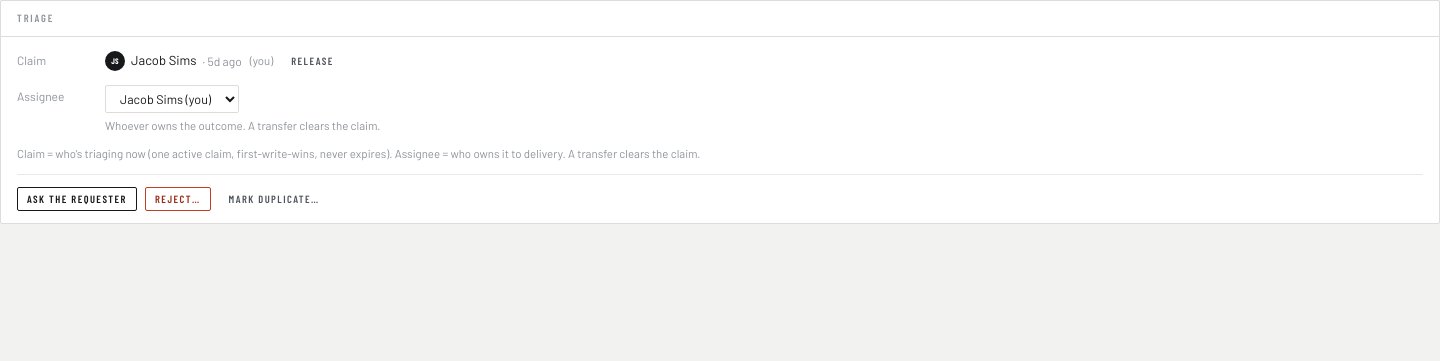
RequestTriageRail: the three triage acts, each refusing to act before it has what it needs › asks the requester through the page, and disables Send until a question is typed
Click the button "Ask the requester" at (77, 199), box [17,187,137,211]
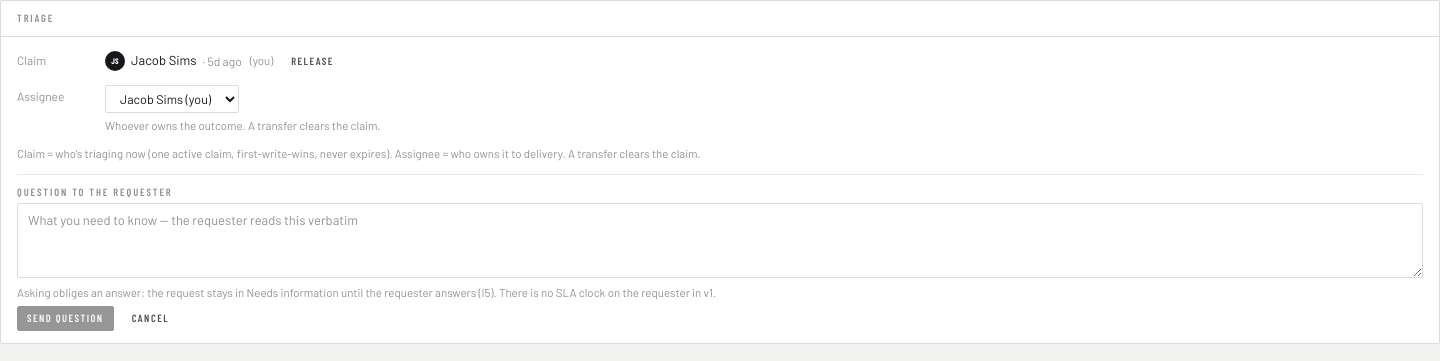
Result: the button "Send question" is disabled at [17,306,114,331]
Type "Which group is the default?" into the text box labelled "Question to the requester" at (720, 241), box [17,203,1423,278]
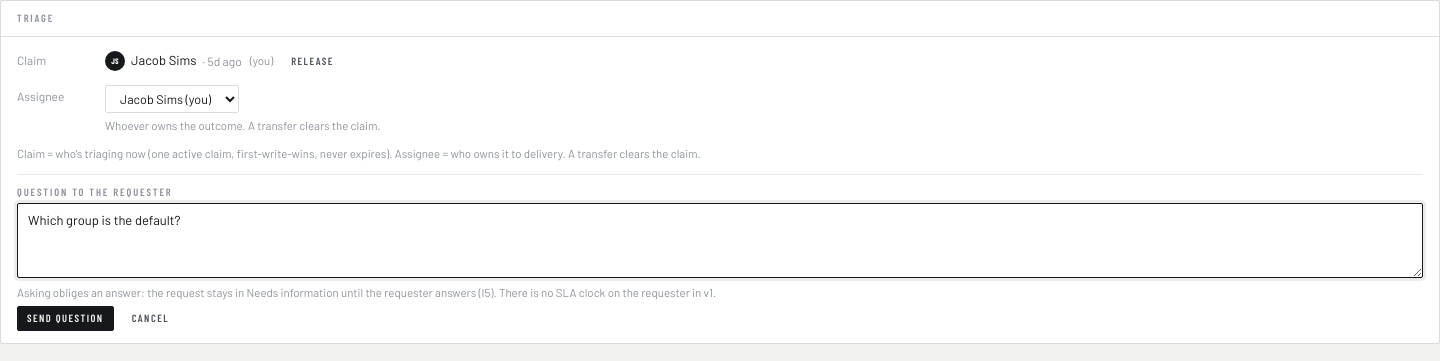
Result: the button "Send question" is enabled
Click the button "Send question" at (65, 319), box [17,306,114,331]
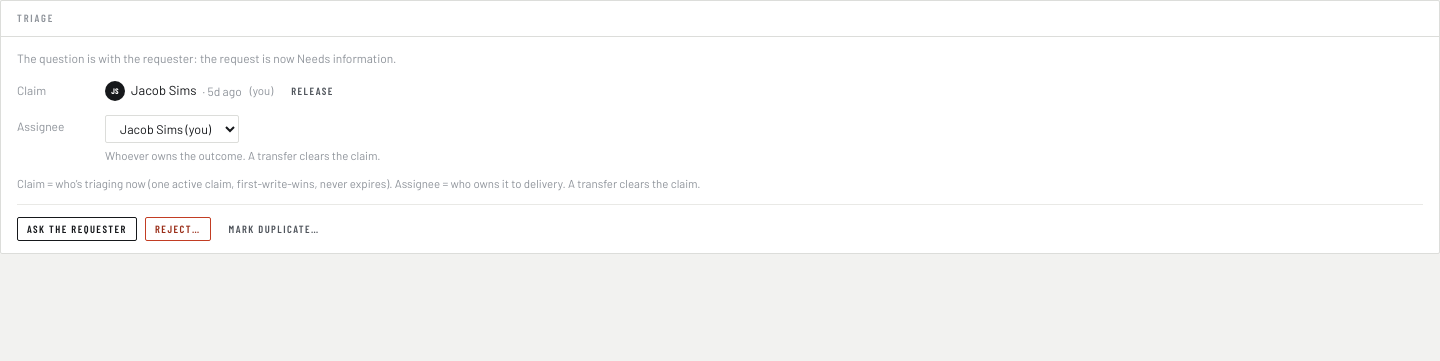
Result: the message shows "Needs information" at [17,50,396,64]
Result: the text "Asking obliges an answer" is gone
